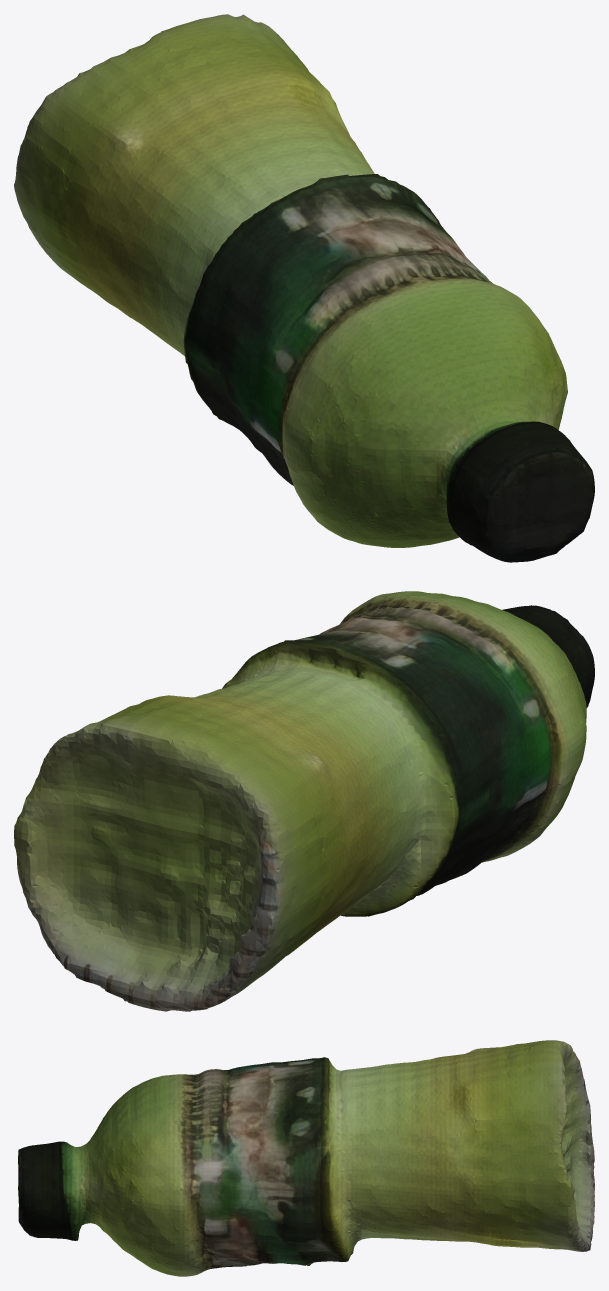
Rendered from 0_rgba.obj.
The picture shows the model from 3 angles, top to bottom: view 1: azimuth 30°, elevation 25°; view 2: azimuth 150°, elevation 25°; view 3: azimuth 270°, elevation 25°; orthographic projection. The views are drawn at different scales.
Size of the model in its own units: 0.8022 by 0.8046 by 1.94.
1 material, 1 textured.
